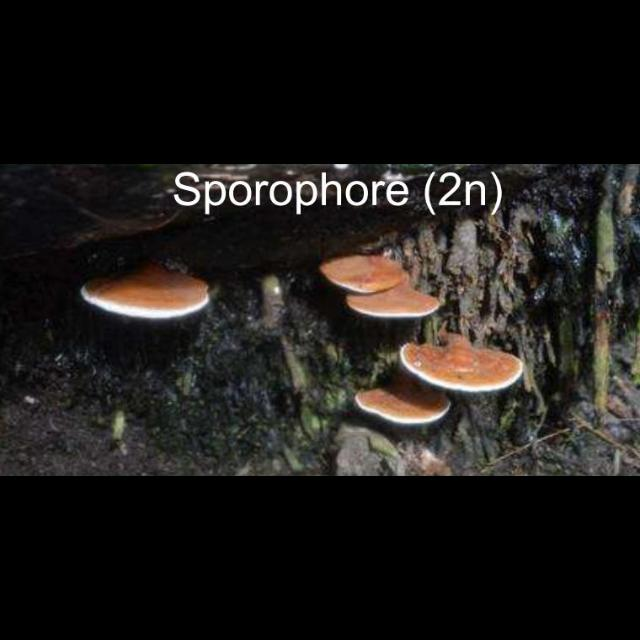ganoderma: (80, 255, 210, 324), (399, 333, 525, 395), (355, 386, 455, 428), (319, 256, 409, 296), (346, 290, 443, 321)
